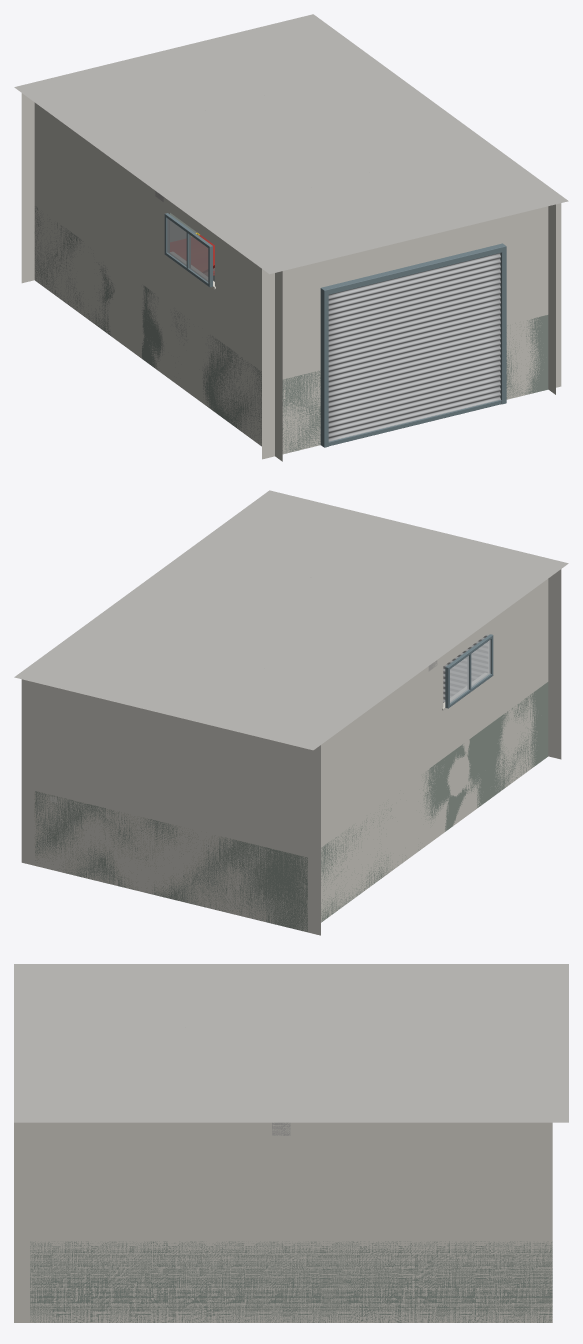
File: garage.glb
3 renders of one model, top to bottom at view 1: azimuth 30°, elevation 25°; view 2: azimuth 150°, elevation 25°; view 3: azimuth 270°, elevation 25°, orthographic. The views are drawn at different scales.
Parts seen in each view (by area): view 1: est_garaje, est_vidrios, capo; view 2: est_garaje, est_vidrios; view 3: est_garaje.
Part boxes in pixels (x1=…): est_garaje: x1=14, y1=14, x2=568, y2=461; est_vidrios: x1=167, y1=218, x2=214, y2=281; capo: x1=170, y1=235, x2=214, y2=273; est_garaje: x1=14, y1=490, x2=568, y2=935; est_vidrios: x1=49, y1=640, x2=490, y2=802; est_garaje: x1=14, y1=964, x2=568, y2=1322.
Bounding box in the file's own units: 4.6 × 2.8 × 6.8.
